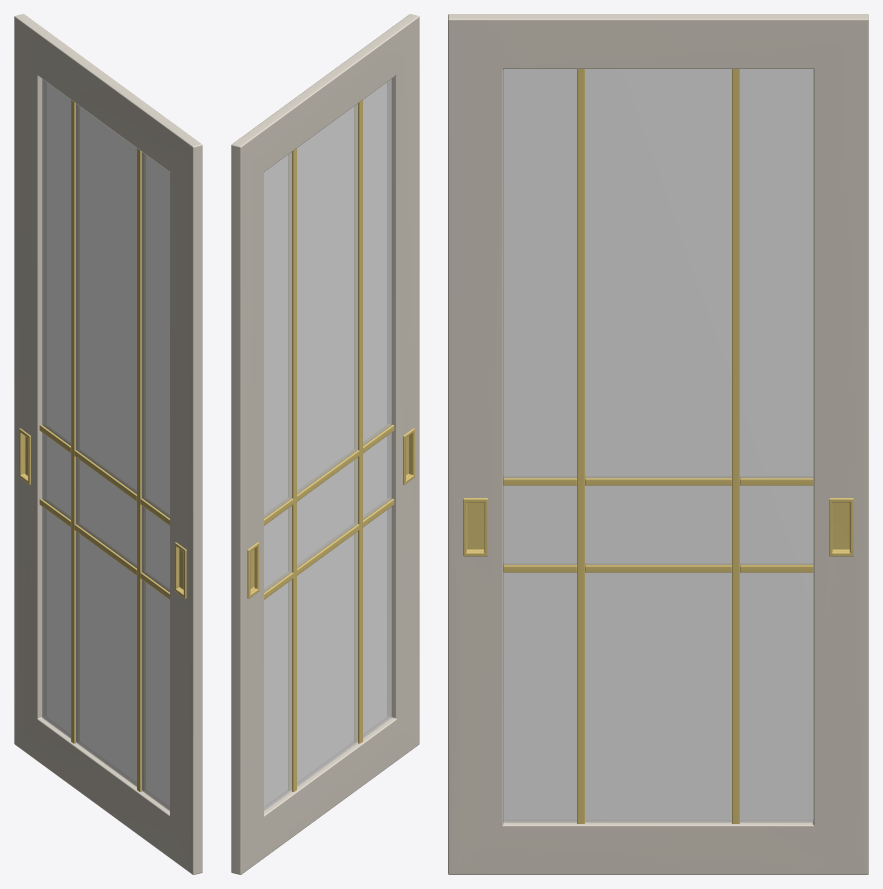
Rendered from 15_MODERN_Door.glb.
3 renders of one model, left to right at view 1: azimuth 30°, elevation 25°; view 2: azimuth 150°, elevation 25°; view 3: azimuth 270°, elevation 25°, orthographic. The views are drawn at different scales.
Parts seen in each view (by area): view 1: Door; view 2: Door; view 3: Door.
Boxes of the visible parts, x1=… form: Door: x1=14, y1=14, x2=202, y2=874; Door: x1=231, y1=14, x2=419, y2=874; Door: x1=448, y1=14, x2=868, y2=874.
Size of the model in its own units: 0.0775 by 4.11 by 1.83.
